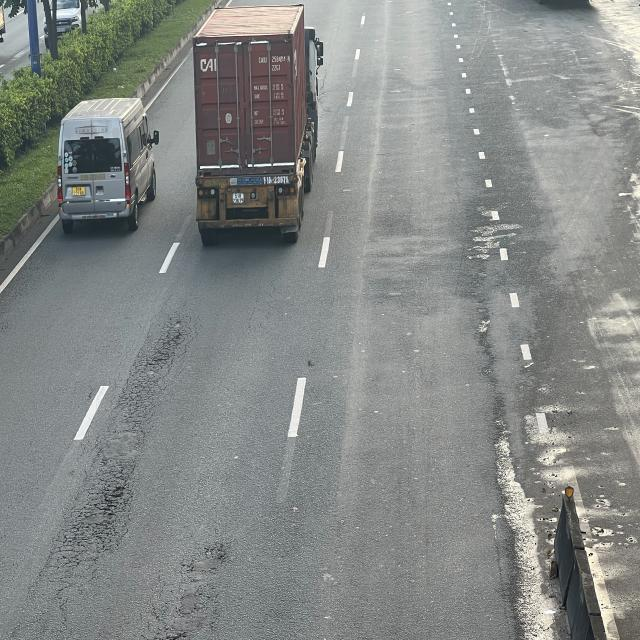container: (194, 0, 328, 238)
van: (55, 96, 158, 234)
